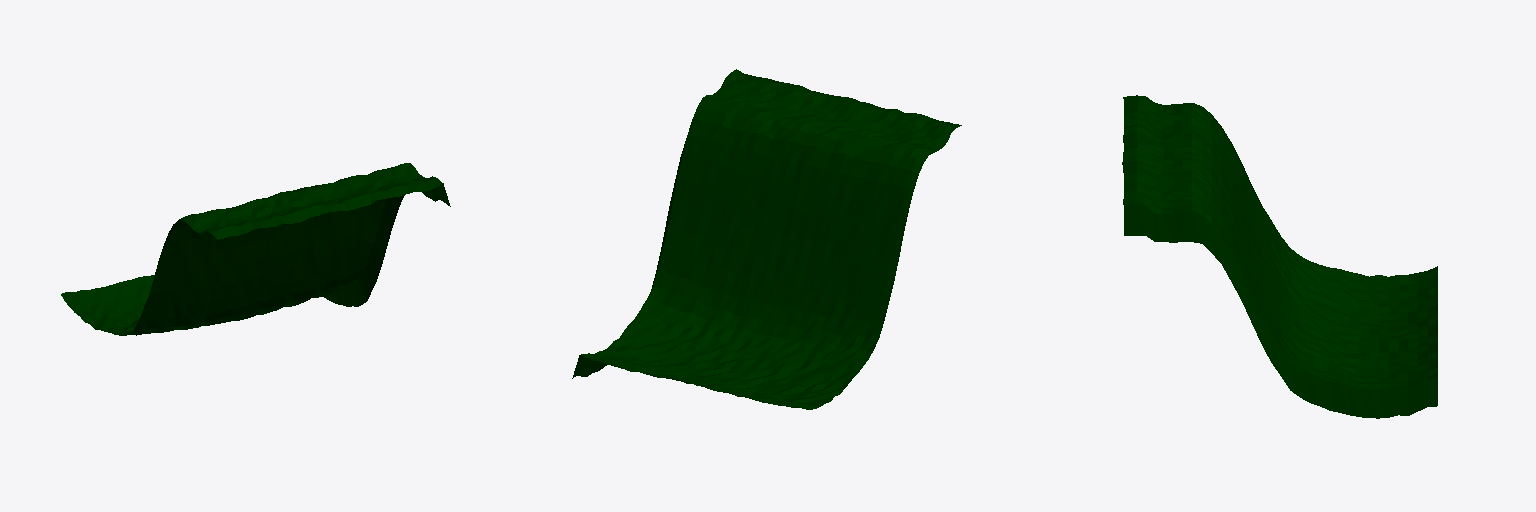
The model's file is plains_3.obj.
3 views of the same model, side by side, from view 1: azimuth 30°, elevation 25°; view 2: azimuth 150°, elevation 25°; view 3: azimuth 270°, elevation 25° (orthographic).
Visible parts, largest first — view 1: Plane; view 2: Plane; view 3: Plane.
Boxes of the visible parts, box(x1,y1,x2,y2) form: Plane: box(61, 163, 450, 335); Plane: box(572, 69, 961, 409); Plane: box(1122, 95, 1437, 418).
Bounding box in the file's own units: 13.57 × 11.73 × 15.89.